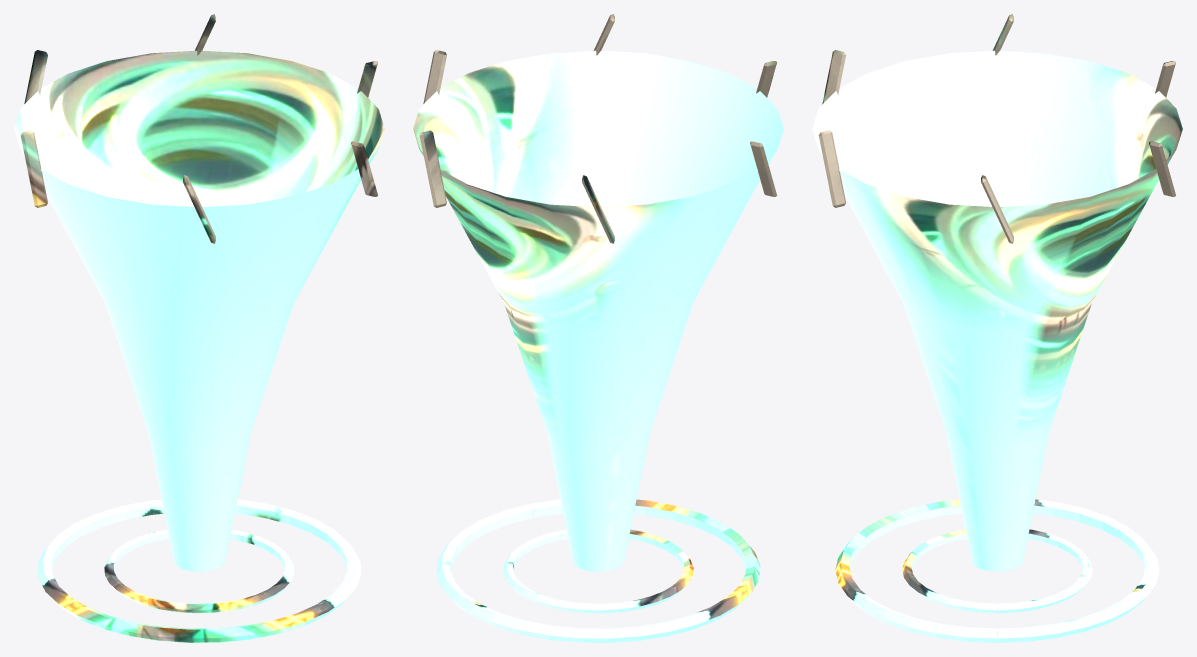
The model's file is vortex.glb.
The picture shows the model from 3 angles, left to right: view 1: azimuth 30°, elevation 25°; view 2: azimuth 150°, elevation 25°; view 3: azimuth 270°, elevation 25°; orthographic projection.
Visible parts, largest first — view 1: vortex; view 2: vortex; view 3: vortex.
Part boxes in pixels (box(x1,y1,x2,y2)): vortex: box(14, 14, 384, 642); vortex: box(413, 14, 783, 642); vortex: box(812, 14, 1182, 642).
Bounding box in the file's own units: 1.54 × 2.06 × 1.44.
1 material, 1 textured.
